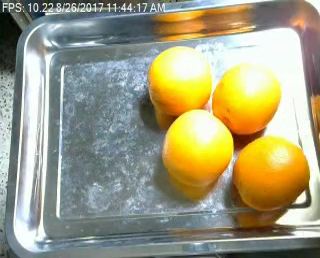Orange: (232, 135, 309, 212), (161, 109, 234, 186), (211, 65, 280, 135), (148, 46, 212, 115)
